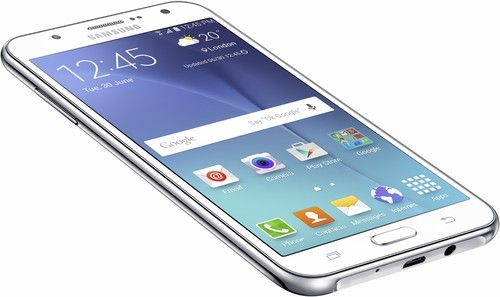mobile: (1, 2, 500, 291)
